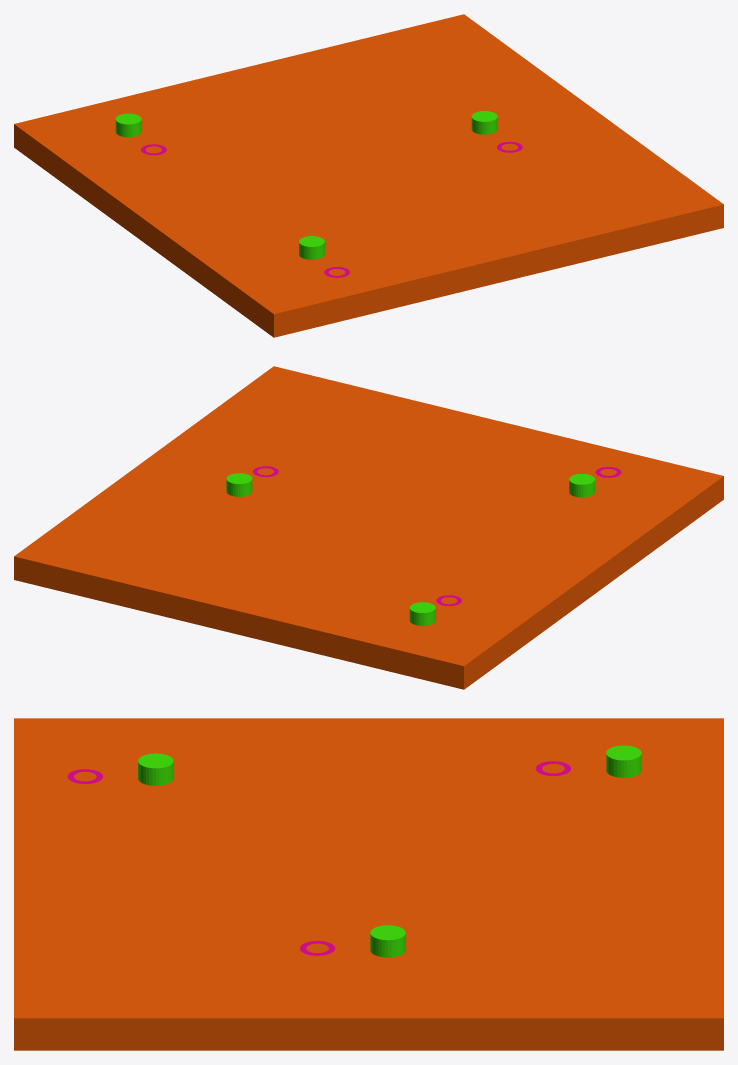
The model's file is riskmap.fbx.
3 renders of one model, top to bottom at view 1: azimuth 30°, elevation 25°; view 2: azimuth 150°, elevation 25°; view 3: azimuth 270°, elevation 25°, orthographic. The views are drawn at different scales.
Parts seen in each view (by area): view 1: floor, norway, sweden, denmark, base.001, base.003, base.002; view 2: floor, norway, sweden, denmark, base.003, base.001, base.002; view 3: floor, norway, sweden, denmark, base.001, base.002, base.003.
Part boxes in pixels (x1,y1,x2,y2): floor: [14, 14, 723, 337]; norway: [195, 204, 723, 313]; sweden: [357, 74, 688, 190]; denmark: [14, 77, 309, 197]; base.001: [115, 113, 141, 137]; base.003: [471, 111, 497, 134]; base.002: [299, 236, 324, 259]; floor: [14, 366, 723, 689]; norway: [274, 366, 723, 533]; sweden: [96, 392, 384, 541]; denmark: [272, 545, 564, 665]; base.003: [226, 473, 252, 496]; base.001: [409, 602, 435, 625]; base.002: [569, 474, 594, 497]; floor: [14, 718, 723, 1050]; norway: [14, 718, 232, 1017]; sweden: [109, 888, 499, 1018]; denmark: [448, 718, 723, 848]; base.001: [606, 745, 641, 777]; base.002: [138, 753, 173, 785]; base.003: [370, 925, 405, 957].
Bounding box in the file's own units: 4000 × 308 × 4000.
